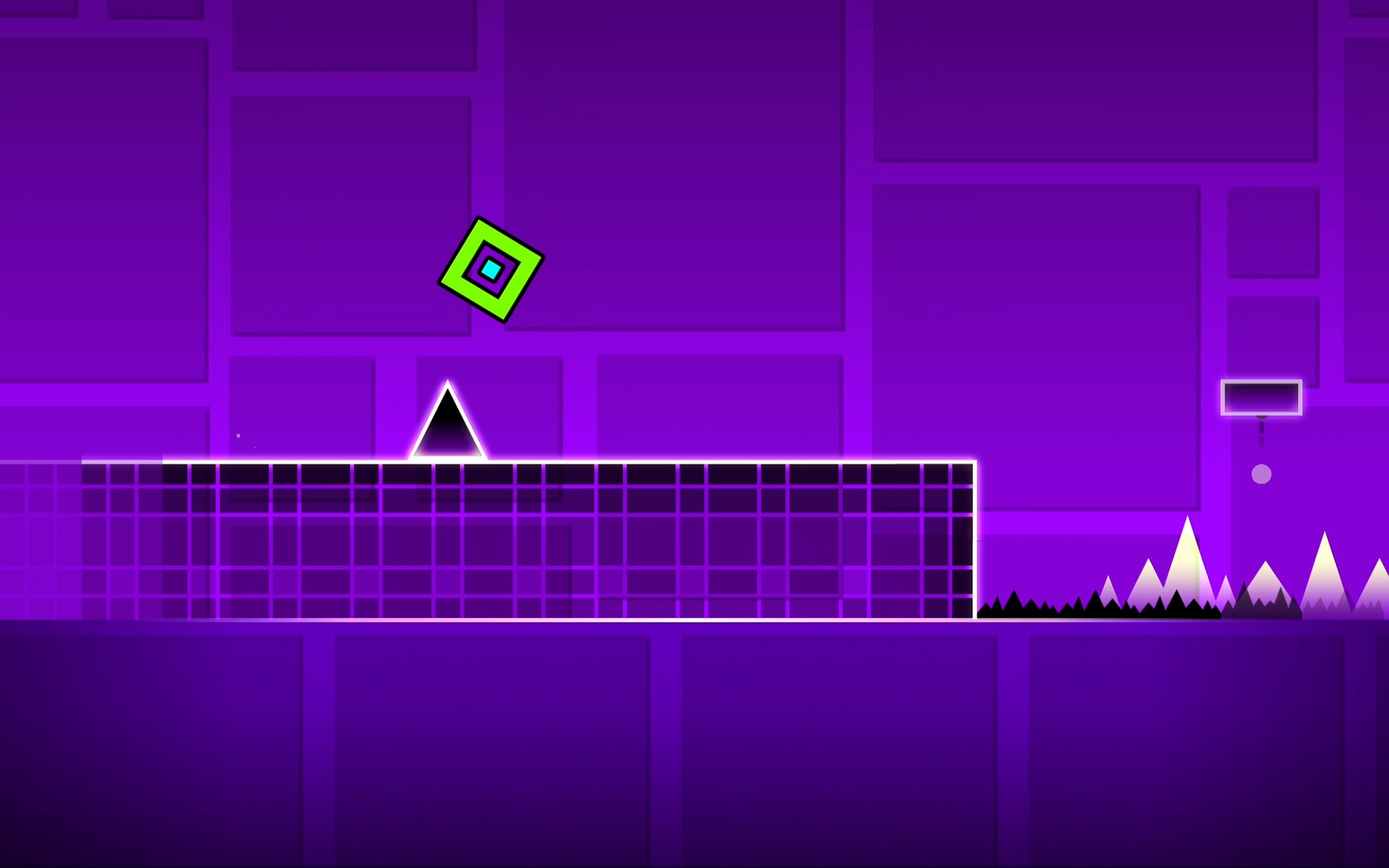Block2: (0, 459, 975, 622)
Block3: (1224, 380, 1301, 417)
Player: (438, 217, 544, 323)
Spike: (409, 380, 487, 460)
Spike3: (973, 583, 1389, 620)
